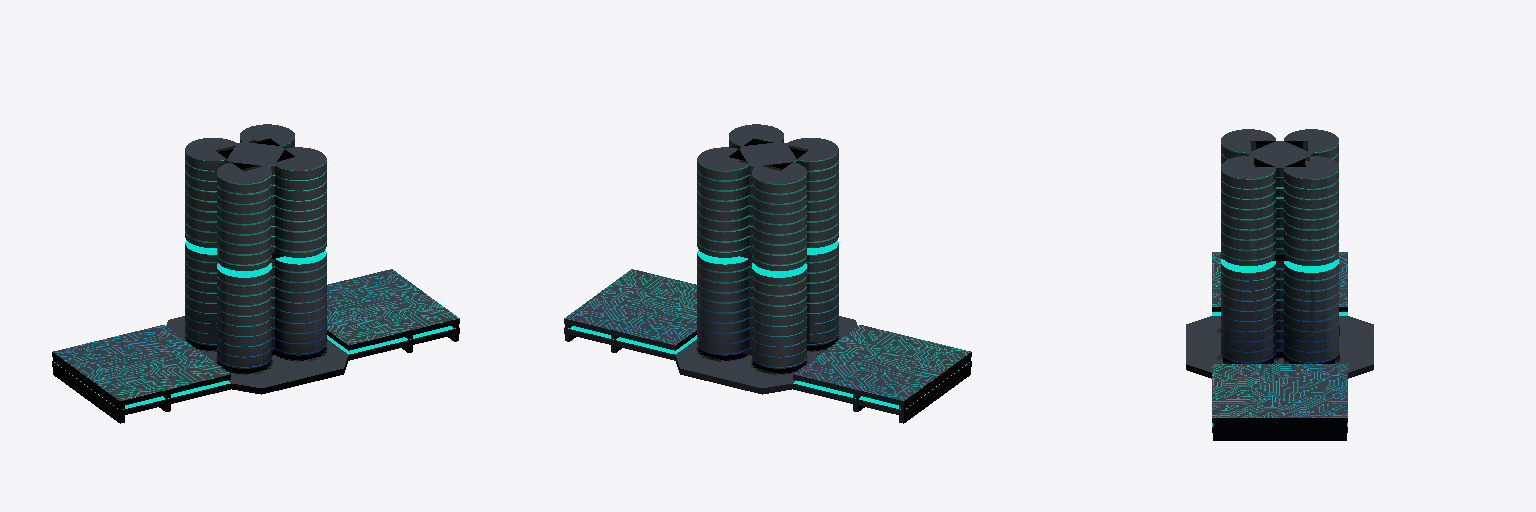
3 views of the same model, side by side, from view 1: azimuth 30°, elevation 25°; view 2: azimuth 150°, elevation 25°; view 3: azimuth 270°, elevation 25° (orthographic).
Parts seen in each view (by area): view 1: Cube_Cube.001; view 2: Cube_Cube.001; view 3: Cube_Cube.001.
Boxes of the visible parts, x1=… form: Cube_Cube.001: x1=52, y1=124, x2=459, y2=423; Cube_Cube.001: x1=564, y1=124, x2=971, y2=423; Cube_Cube.001: x1=1186, y1=129, x2=1373, y2=440.
Bounding box in the file's own units: 36.11 × 20.67 × 17.23.
Materials: 1 (1 with a texture image).